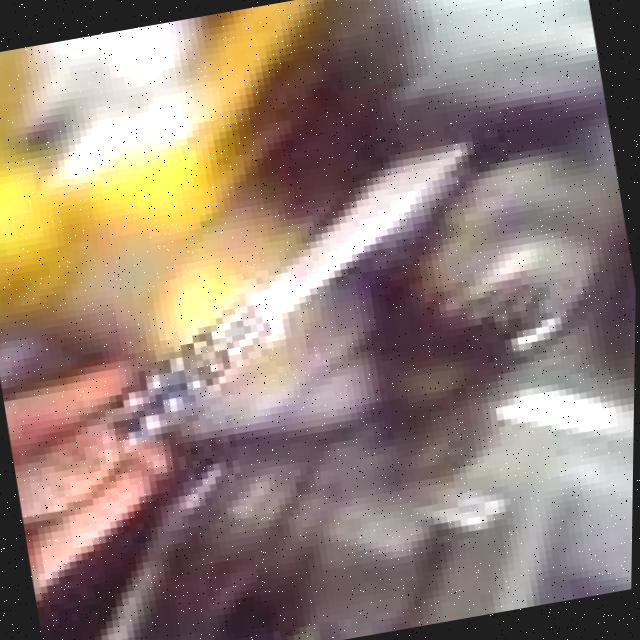knife: (76, 136, 511, 444)
